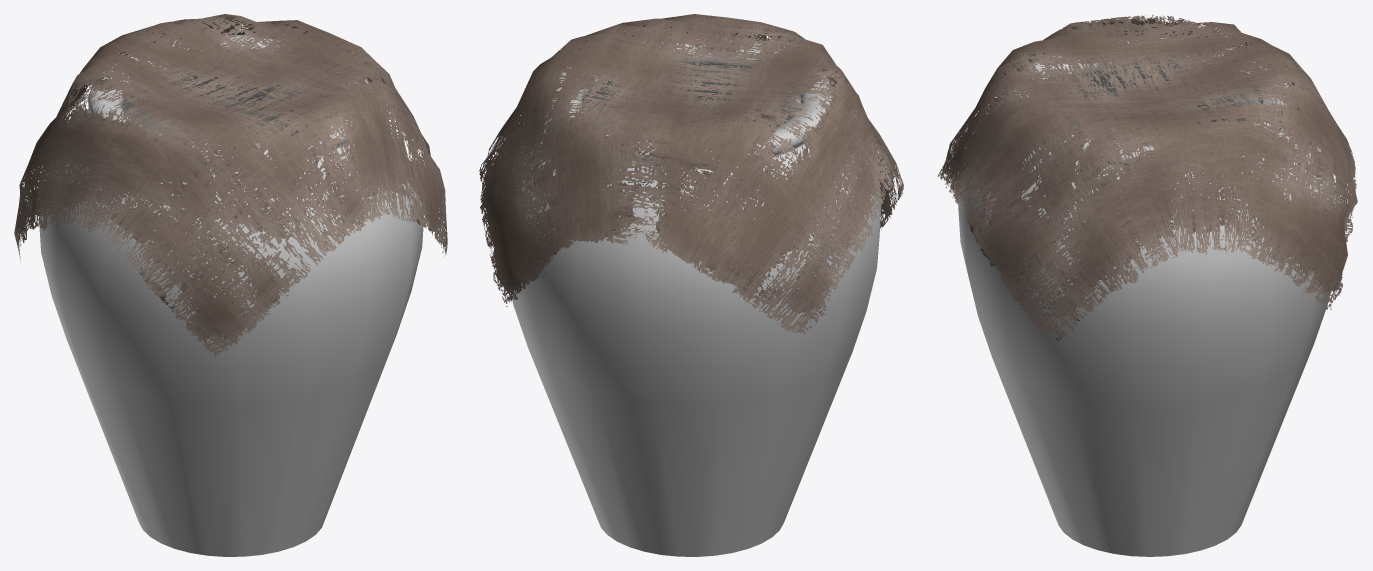
Rendered from SM_VH04_Vase_05.fbx.
The picture shows the model from 3 angles, left to right: view 1: azimuth 30°, elevation 25°; view 2: azimuth 150°, elevation 25°; view 3: azimuth 270°, elevation 25°; orthographic projection.
Visible parts, largest first — view 1: SM_VH04_Vase_05_LOD0; view 2: SM_VH04_Vase_05_LOD0; view 3: SM_VH04_Vase_05_LOD0.
Part boxes in pixels (left/top/right/bottom): SM_VH04_Vase_05_LOD0: left=14, top=14, right=447, bottom=556; SM_VH04_Vase_05_LOD0: left=478, top=14, right=903, bottom=556; SM_VH04_Vase_05_LOD0: left=937, top=14, right=1357, bottom=556.
Bounding box in the file's own units: 61.25 × 60.04 × 69.47.
